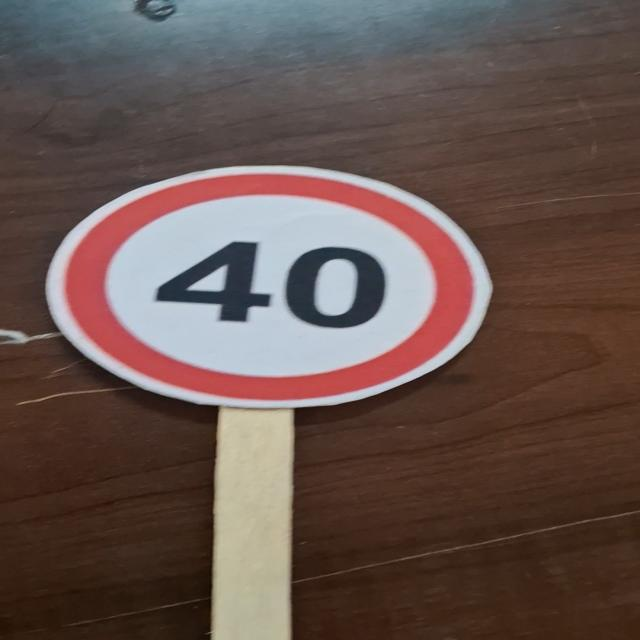Speed40: (38, 162, 497, 410)
